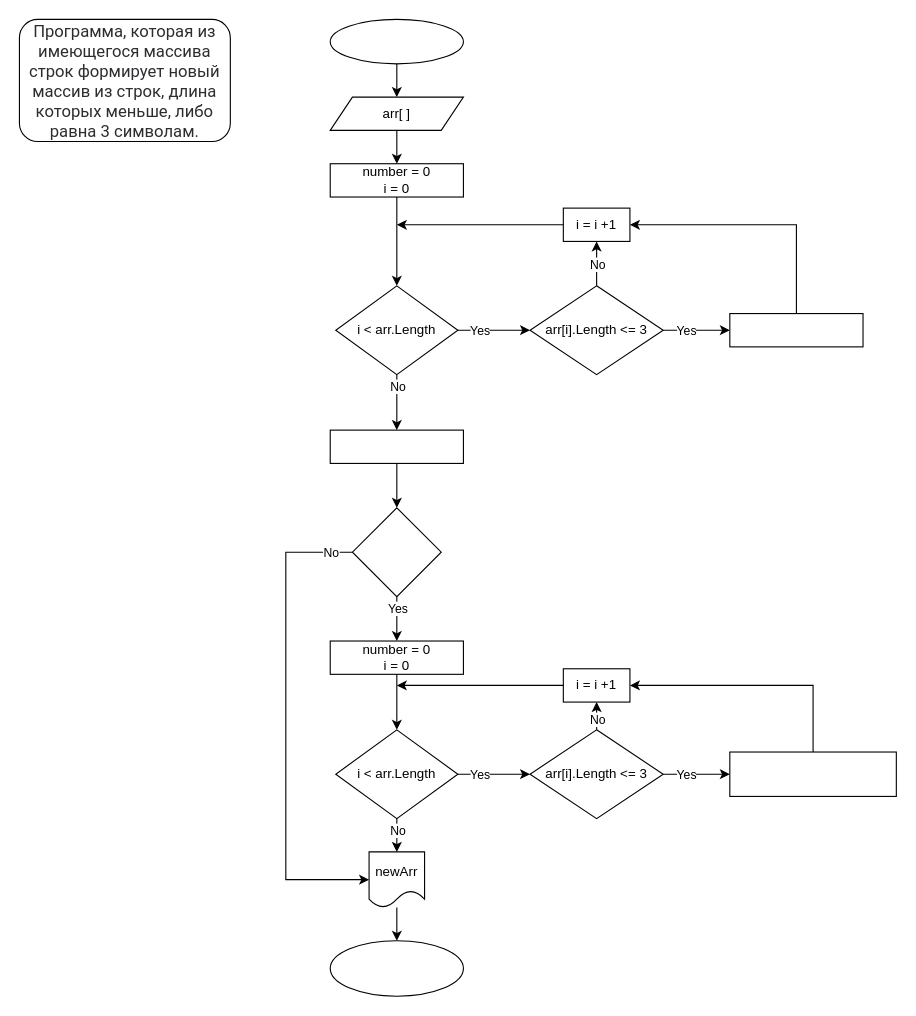
Image size: 916x1016. Some labels were removed from this diagram. Each missing label, with the box of its shape:
newArr[number]: (329, 429, 463, 463)
newArr[number] = arr[i] number = number +1: (729, 751, 896, 796)
number = number +1: (729, 312, 863, 347)
number > 0: (351, 507, 441, 597)
конец: (329, 940, 463, 996)
начало: (329, 18, 463, 64)
